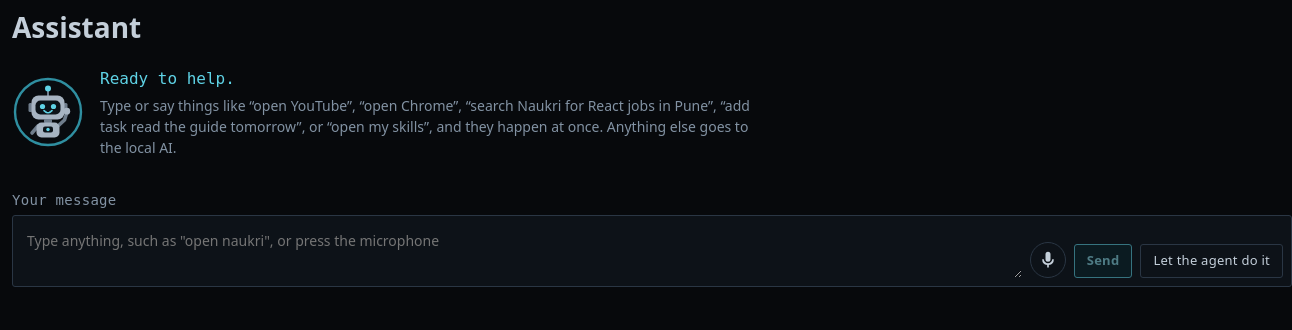
Test case: the microphone in the chat bar › puts unsure speech in the box to check
Click the button named "Speak a message or command".
click(1048, 260)  # box top-left (1030, 242), bottom-right (1066, 278)
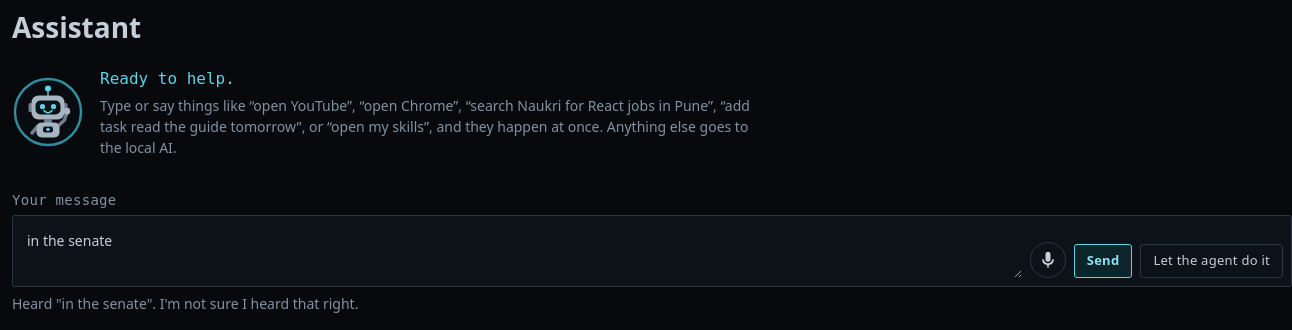
Result: the text "Heard \"in the senate\". I'm not sure I heard that right." is shown at top-left (12, 294), bottom-right (358, 312)
Result: the text box labelled "Your message" holds "in the senate" at top-left (21, 224), bottom-right (1022, 278)
